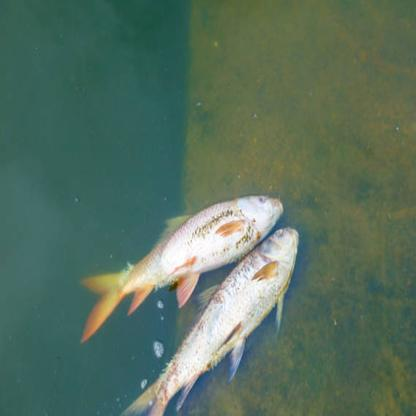deceased fish: (75, 187, 292, 343), (123, 225, 299, 416)
